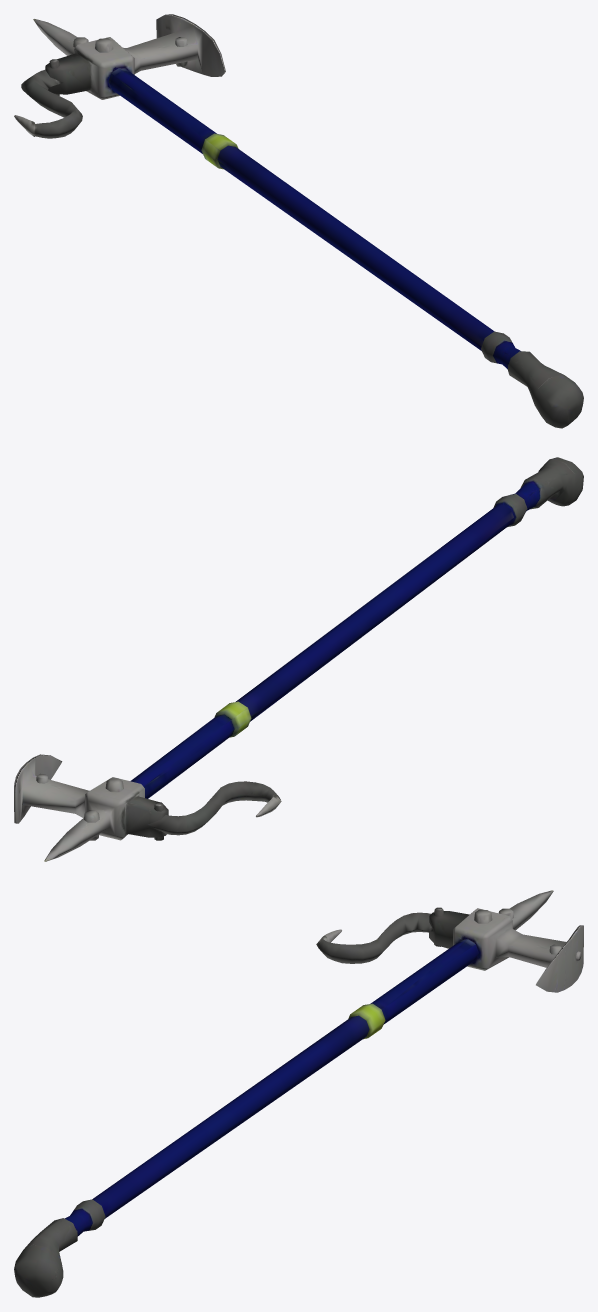
The model's file is m_halberd.fbx.
3 renders of one model, top to bottom at view 1: azimuth 30°, elevation 25°; view 2: azimuth 150°, elevation 25°; view 3: azimuth 330°, elevation 25°, orthographic.
Visible parts, largest first — view 1: tripo_node_4755441e-7c97-414b-bda1-96669eeae776; view 2: tripo_node_4755441e-7c97-414b-bda1-96669eeae776; view 3: tripo_node_4755441e-7c97-414b-bda1-96669eeae776.
Boxes of the visible parts, left/top/right/bottom form: tripo_node_4755441e-7c97-414b-bda1-96669eeae776: left=14, top=14, right=583, bottom=428; tripo_node_4755441e-7c97-414b-bda1-96669eeae776: left=14, top=457, right=583, bottom=861; tripo_node_4755441e-7c97-414b-bda1-96669eeae776: left=14, top=890, right=583, bottom=1297.
Bounding box in the file's own units: 0.5394 × 0.1316 × 2.33.
Materials: 1 (1 with a texture image).
